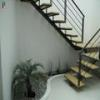stairs: (18, 0, 88, 45), (65, 50, 100, 92)
